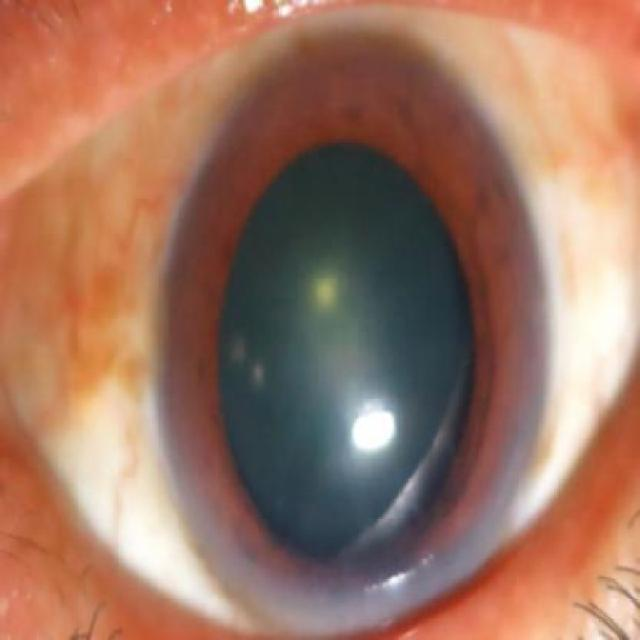Cataract: (148, 17, 555, 640)
